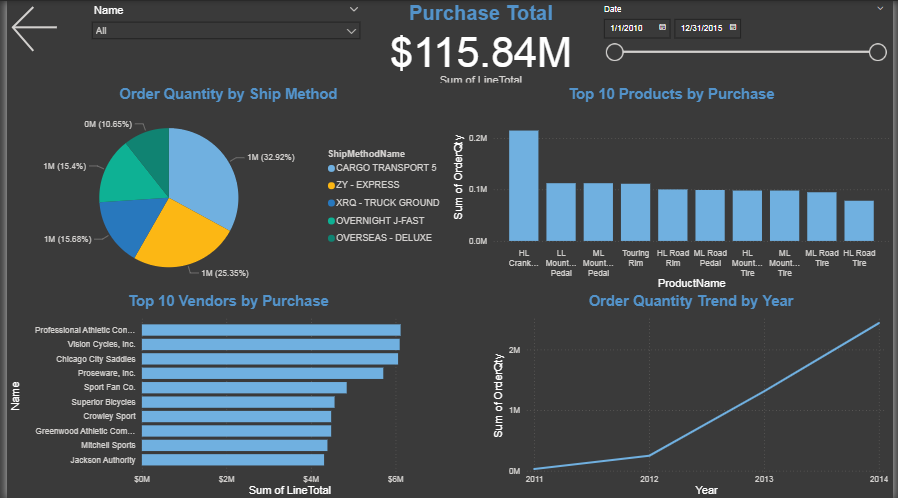

This screenshot's page, from the dashboard's own definition file:
{"tool":"powerbi","page":{"name":"Page 4","canvas":[1280,720],"ordinal":3},"visuals":[{"type":"lineChart","title":"Order Quantity Trend by Year","fields":{"Y":["Sum(FactPurchaseOrderHeader.OrderQty)"],"Category":["DimDateTable.Year"]},"box":[698.8,421.6,581.2,299],"z":0},{"type":"barChart","title":"Top 10 Vendors by Purchase","fields":{"Category":["DimPurchasing Vendor.Name"],"Y":["Sum(FactPurchaseOrderHeader.LineTotal)"]},"box":[0,421.6,640,299],"z":1000},{"type":"pieChart","title":"Order Quantity by Ship Method","fields":{"Category":["DimPurchasingShipMethod.ShipMethodName"],"Y":["Sum(FactPurchaseOrderHeader.OrderQty)"]},"box":[0,122.6,640,299],"z":2000},{"type":"columnChart","title":"Top 10 Products by Purchase","fields":{"Y":["Sum(FactPurchaseOrderHeader.OrderQty)"],"Category":["DimProductionProduct.ProductName"]},"box":[640,122.6,640,299],"z":3000},{"type":"card","title":"Purchase Total","fields":{"Values":["Sum(FactPurchaseOrderHeader.LineTotal)"]},"box":[520.7,0,329.2,122.6],"z":4000},{"type":"slicer","fields":{"Values":["DimDateTable.Date"]},"box":[850,0,430,94.1],"z":5000},{"type":"slicer","fields":{"Values":["DimPurchasing Vendor.Name"]},"box":[112.5,0,408.2,94.1],"z":6000},{"type":"actionButton","box":[0,0,112.5,80.6],"z":7000}]}

Visuals, with their boxes in screenshot pixels (x1, y1, x2, y2), scaled from the page's 1280x720 canvas onto the 898x498 screenshot:
"Order Quantity Trend by Year" lineChart: BBox(490, 292, 897, 497)
"Top 10 Vendors by Purchase" barChart: BBox(0, 292, 449, 497)
"Order Quantity by Ship Method" pieChart: BBox(0, 85, 449, 292)
"Top 10 Products by Purchase" columnChart: BBox(449, 85, 897, 292)
"Purchase Total" card: BBox(365, 0, 596, 85)
slicer - DimDateTable.Date: BBox(596, 0, 897, 65)
slicer - DimPurchasing Vendor.Name: BBox(79, 0, 365, 65)
actionButton: BBox(0, 0, 79, 56)
